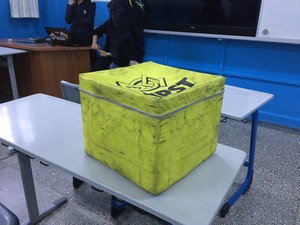cube: (80, 61, 225, 194)
